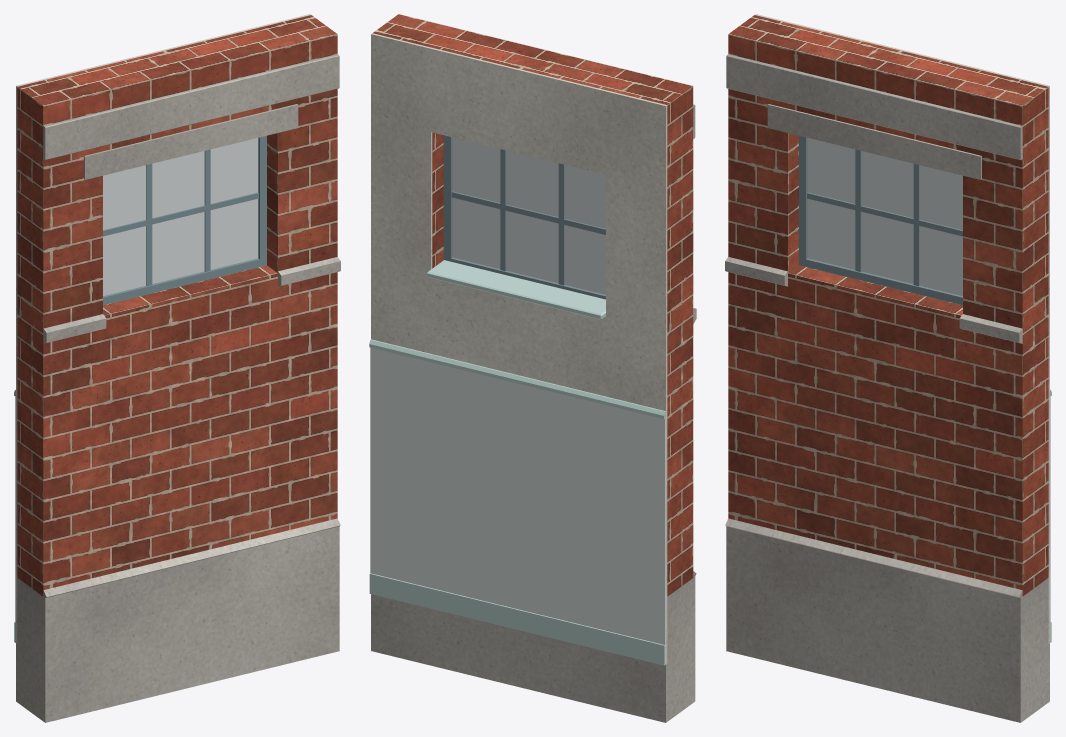
The model's file is w_side.glb.
3 renders of one model, left to right at view 1: azimuth 30°, elevation 25°; view 2: azimuth 150°, elevation 25°; view 3: azimuth 330°, elevation 25°, orthographic.
Parts seen in each view (by area): view 1: w_side_brick, w_side_concrete, w_side_glass_f, w_side_frame, w_side_plaster; view 2: w_side_tile_w, w_side_plaster, w_side_brick, w_side_concrete, w_side_glass_f, w_side_tile_c, w_side_frame; view 3: w_side_brick, w_side_concrete, w_side_glass_f, w_side_frame, w_side_plaster.
Part boxes in pixels (left/top/right/bottom): w_side_brick: left=17, top=15, right=337, bottom=596; w_side_concrete: left=16, top=54, right=340, bottom=722; w_side_glass_f: left=103, top=138, right=258, bottom=295; w_side_frame: left=103, top=135, right=266, bottom=305; w_side_plaster: left=16, top=14, right=310, bottom=643; w_side_tile_w: left=370, top=347, right=665, bottom=664; w_side_plaster: left=371, top=33, right=667, bottom=664; w_side_brick: left=373, top=14, right=693, bottom=596; w_side_concrete: left=371, top=104, right=696, bottom=722; w_side_glass_f: left=452, top=137, right=605, bottom=294; w_side_tile_c: left=369, top=260, right=665, bottom=665; w_side_frame: left=443, top=135, right=605, bottom=299; w_side_brick: left=728, top=15, right=1048, bottom=596; w_side_concrete: left=725, top=54, right=1049, bottom=722; w_side_glass_f: left=807, top=138, right=962, bottom=295; w_side_frame: left=799, top=135, right=962, bottom=305; w_side_plaster: left=755, top=14, right=1049, bottom=643.
Size of the model in its own units: 1.85 by 3.7 by 0.385.
7 materials, 3 textured.
